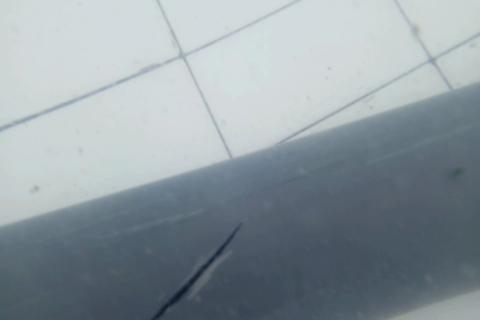keretakan: (153, 221, 241, 319)
